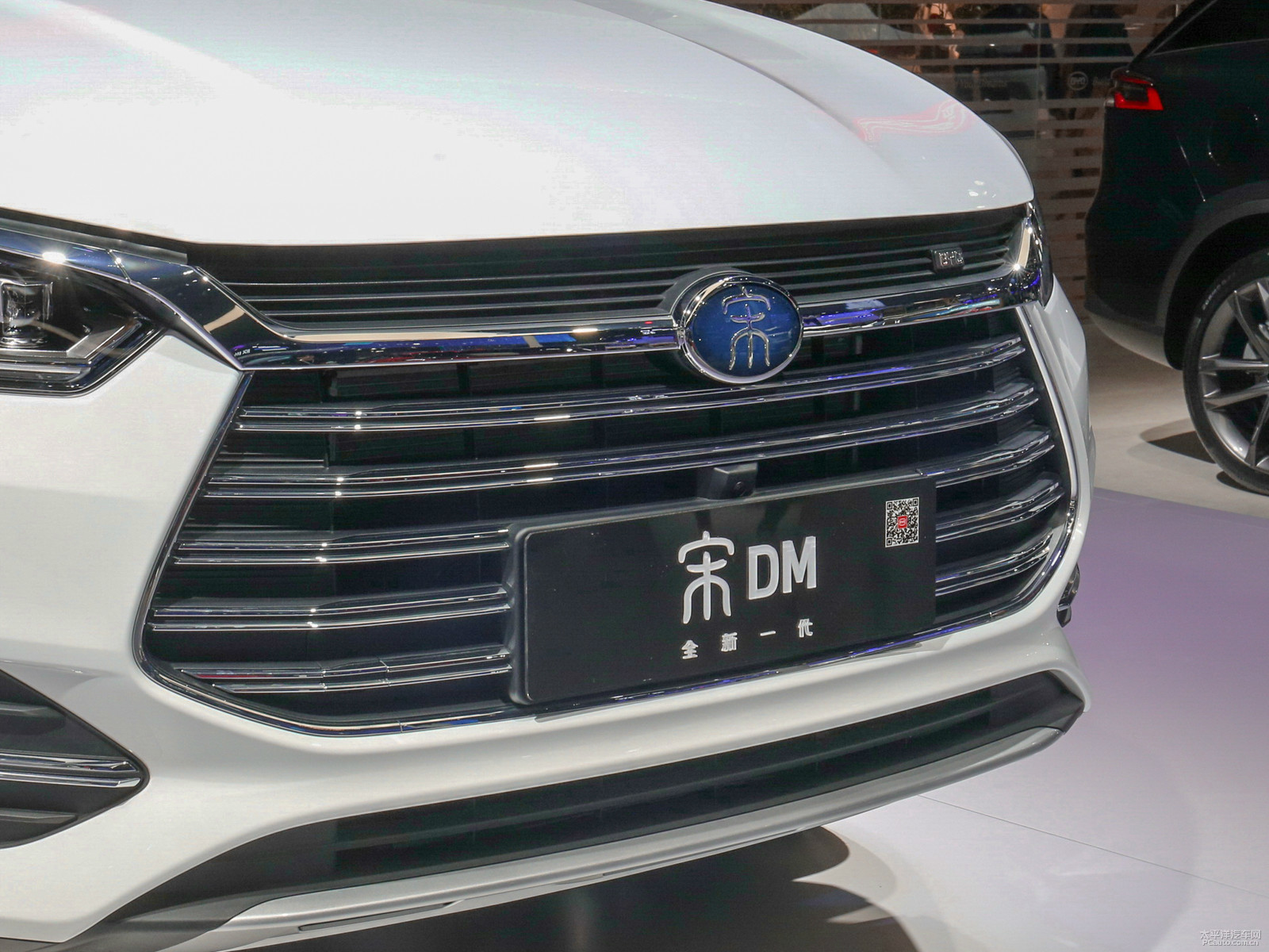BYD Song: (681, 277, 802, 383)
